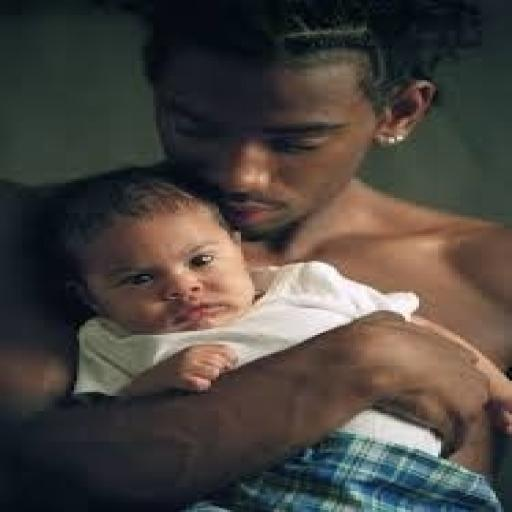hugging: (50, 169, 510, 510)
